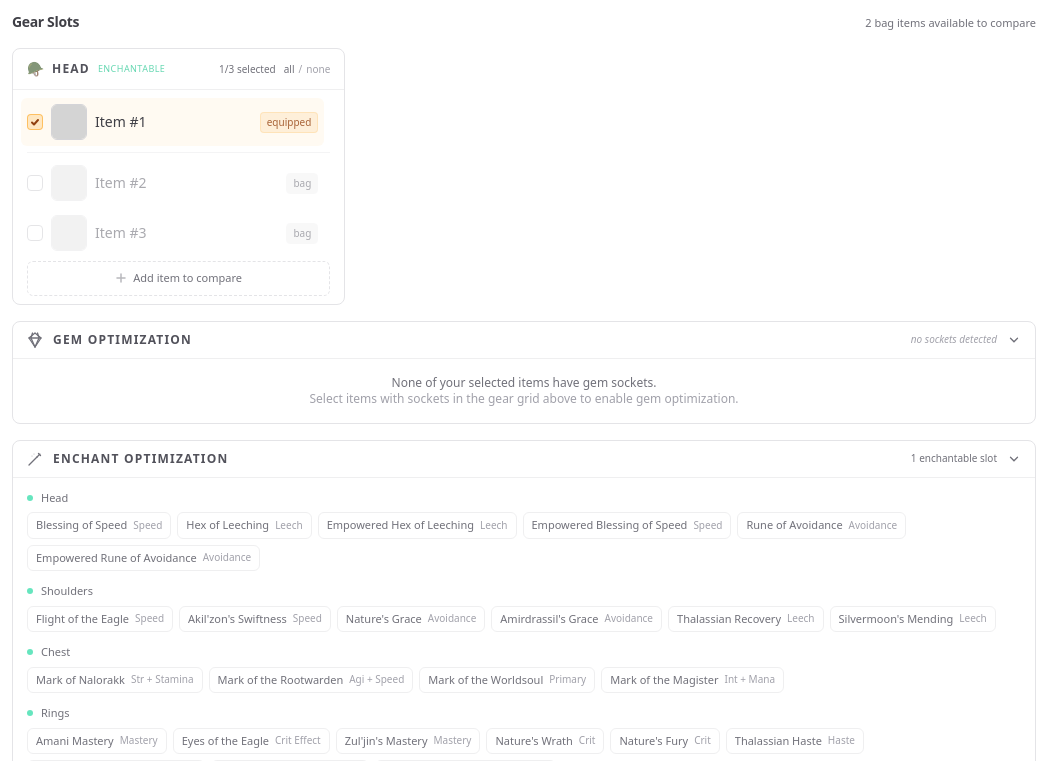
Scenario: GearPanel › "Deselect all" keeps only the equipped item selected
Note: Select all first
Click the button with aria-label "Select all Head items" at (289, 69), box [284, 62, 295, 76]
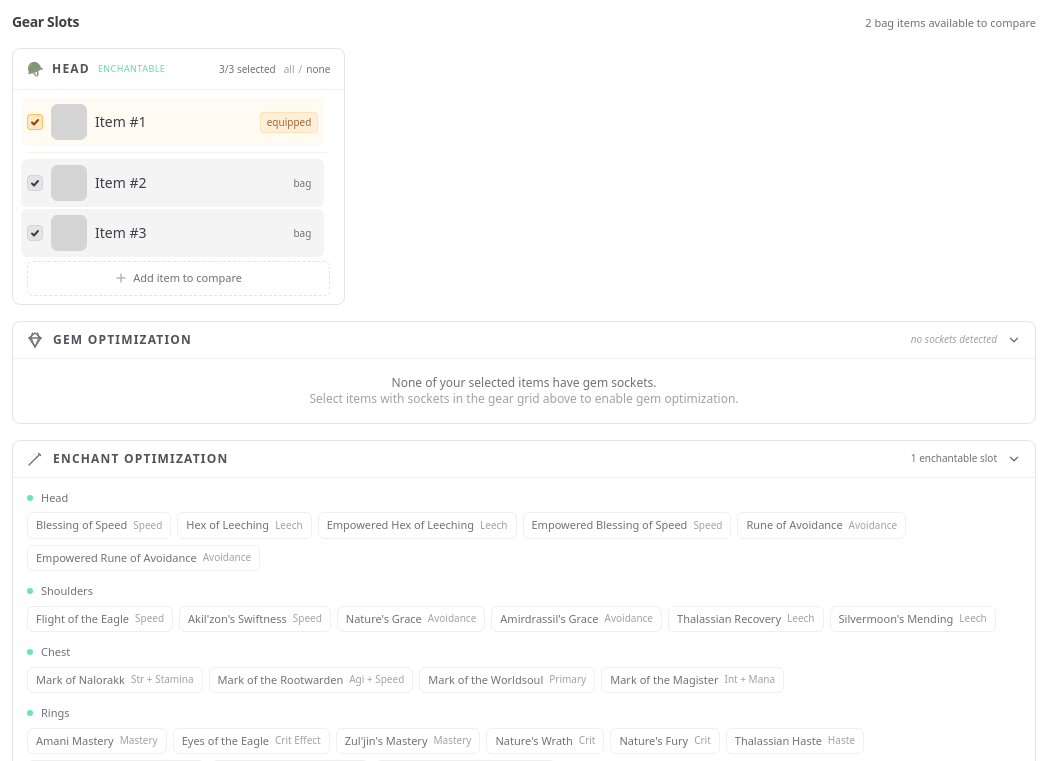
Now the text "3/3 selected" is shown, box [219, 62, 276, 76]
Note: Deselect all
Click the button with aria-label "Deselect all Head items" at (318, 69), box [306, 62, 330, 76]
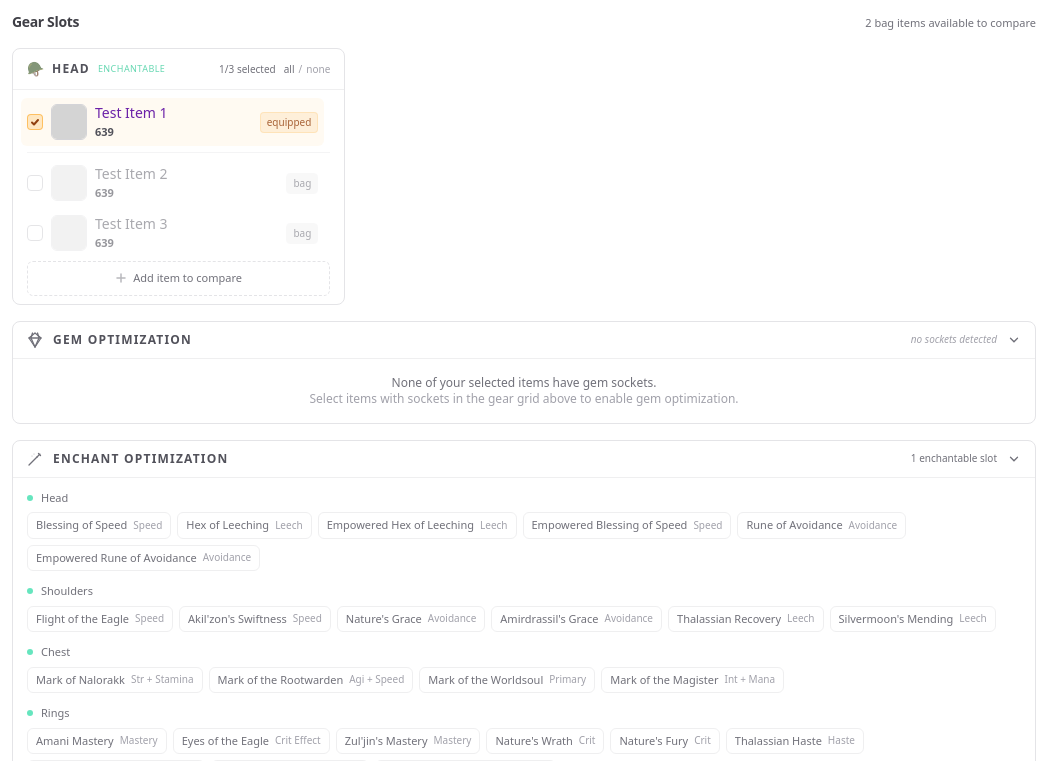
Now the text "1/3 selected" is shown, box [219, 62, 276, 76]
